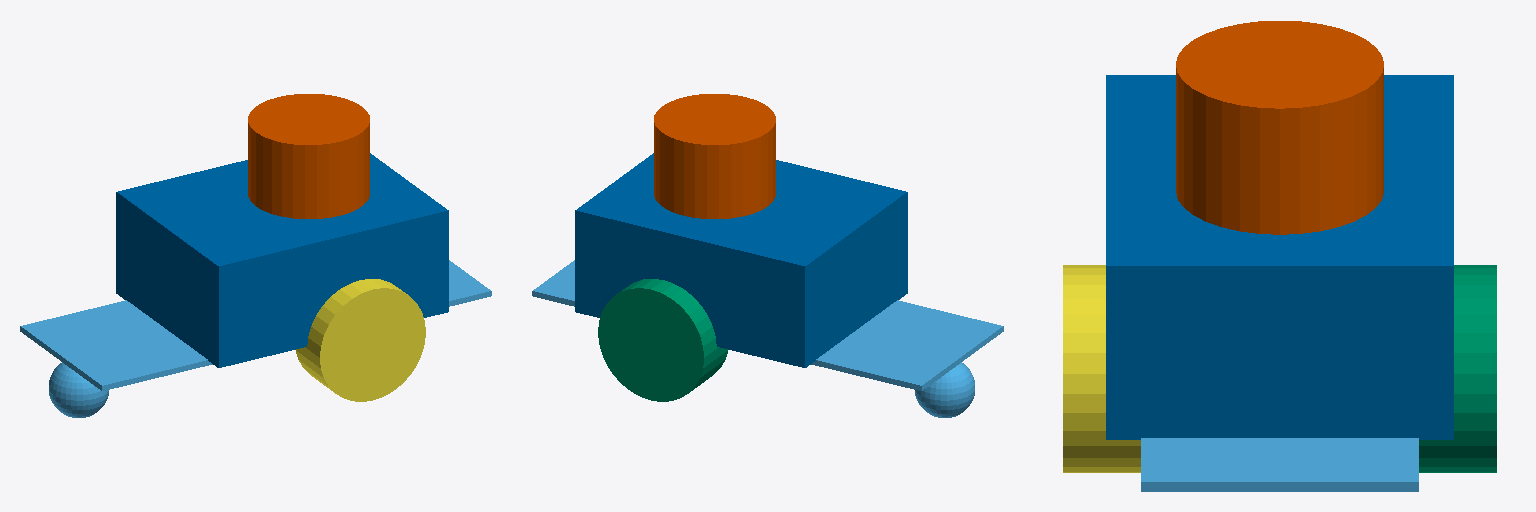
URDF robot description (gopigo3):
<?xml version="1.0" ?>
<!-- =================================================================================== -->
<!-- |    This document was autogenerated by xacro from gopigo3.xacro                  | -->
<!-- |    EDITING THIS FILE BY HAND IS NOT RECOMMENDED                                 | -->
<!-- =================================================================================== -->
<robot name="gopigo3" xmlns:xacro="http://www.ros.org/wiki/xacro">
  <!-- <link name='map'>
  </link> -->
  <link name="odom"/>
  <link name="base_link">
    <inertial>
      <mass value="15.0"/>
      <origin rpy=" 0 0 0" xyz="0 0 0.036"/>
      <inertia ixx="0.1" ixy="0" ixz="0" iyy="0.1" iyz="0" izz="0.1"/>
    </inertial>
    <collision name="collision">
      <origin rpy=" 0 0 0" xyz="0 0 0.036"/>
      <geometry>
        <box size=".22 .08 .003"/>
      </geometry>
    </collision>
    <visual name="base_link_visual">
      <origin rpy=" 0 0 0" xyz="0 0 0.036"/>
      <geometry>
        <box size=".22 .08 .003"/>
      </geometry>
    </visual>
    <collision name="caster_collision">
      <origin rpy=" 0 0 0" xyz="-0.1 0 0.018"/>
      <geometry>
        <sphere radius="0.015"/>
      </geometry>
      <surface>
        <friction>
          <ode>
            <mu>0</mu>
            <mu2>0</mu2>
            <slip1>1.0</slip1>
            <slip2>1.0</slip2>
          </ode>
        </friction>
      </surface>
    </collision>
    <visual name="caster_visual">
      <origin rpy=" 0 0 0" xyz="-0.1 0 0.018"/>
      <geometry>
        <sphere radius="0.015"/>
      </geometry>
    </visual>
  </link>
  <link name="left_wheel">
    <!--origin xyz="0.1 0.13 0.1" rpy="0 1.5707 1.5707"/-->
    <collision name="collision">
      <origin rpy="0 1.5707 1.5707" xyz="0 0 0"/>
      <geometry>
        <cylinder length="0.025" radius="0.03"/>
      </geometry>
    </collision>
    <visual name="left_wheel_visual">
      <origin rpy="0 1.5707 1.5707" xyz="0 0 0"/>
      <geometry>
        <cylinder length="0.025" radius="0.03"/>
      </geometry>
    </visual>
    <inertial>
      <origin rpy="0 1.5707 1.5707" xyz="0 0 0"/>
      <mass value="5"/>
      <inertia ixx=".1" ixy="0.0" ixz="0.0" iyy=".1" iyz="0.0" izz=".1"/>
    </inertial>
  </link>
  <link name="right_wheel">
    <!--origin xyz="0.1 -0.13 0.1" rpy="0 1.5707 1.5707"/-->
    <collision name="collision">
      <origin rpy="0 1.5707 1.5707" xyz="0 0 0"/>
      <geometry>
        <cylinder length="0.025" radius="0.03"/>
      </geometry>
    </collision>
    <visual name="right_wheel_visual">
      <origin rpy="0 1.5707 1.5707" xyz="0 0 0"/>
      <geometry>
        <cylinder length="0.025" radius="0.03"/>
      </geometry>
    </visual>
    <inertial>
      <origin rpy="0 1.5707 1.5707" xyz="0 0 0"/>
      <mass value="5"/>
      <inertia ixx=".1" ixy="0.0" ixz="0.0" iyy=".1" iyz="0.0" izz=".1"/>
    </inertial>
  </link>
  <link name="gopigo3_body">
    <visual>
      <geometry>
        <box size=".13 .1 .055"/>
      </geometry>
      <origin rpy=" 0 0 0" xyz="0 0 0"/>
    </visual>
    <collision name="collision">
      <origin rpy="0 0 0" xyz="0 0 0"/>
      <geometry>
        <box size=".13 .1 .055"/>
      </geometry>
    </collision>
    <inertial>
      <origin rpy="0 0 0" xyz="0 0 0"/>
      <mass value="5"/>
      <inertia ixx=".1" ixy="0.0" ixz="0.0" iyy=".1" iyz="0.0" izz=".1"/>
    </inertial>
  </link>
  <link name="lidar">
    <visual>
      <geometry>
        <cylinder length="0.04" radius="0.03"/>
      </geometry>
      <origin rpy=" 0 0 0" xyz="0 0 0"/>
    </visual>
    <collision name="collision">
      <origin rpy=" 0 0 0" xyz="0 0 0"/>
      <geometry>
        <cylinder length="0.04" radius="0.03"/>
      </geometry>
    </collision>
    <inertial>
      <origin rpy=" 0 0 0" xyz="0 0 0"/>
      <mass value="5"/>
      <inertia ixx=".1" ixy="0.0" ixz="0.0" iyy=".1" iyz="0.0" izz=".1"/>
    </inertial>
  </link>
  <!-- Joints -->
  <!-- <joint type="floating" name="map_to_odom">
    <parent link="map"/>
    <child link="odom"/>
    <origin xyz="0 0 0" rpy="0 0 0"/>
  </joint> -->
  <joint name="odom_to_base" type="floating">
    <parent link="odom"/>
    <child link="base_link"/>
    <origin rpy="0 0 0" xyz="0 0 -0.036"/>
  </joint>
  <joint name="left_wheel_hinge" type="continuous">
    <origin rpy="0 0 0" xyz="0.03 0.05 0.036"/>
    <!--origin xyz="0.1 0.13 0" rpy="0 1.5707 1.5707"/-->
    <child link="left_wheel"/>
    <parent link="base_link"/>
    <axis rpy="0 0 0" xyz="0 1 0"/>
    <limit effort="10000" velocity="1000"/>
    <joint_properties damping="1.0" friction="1.0"/>
  </joint>
  <joint name="right_wheel_hinge" type="continuous">
    <origin rpy="0 0 0" xyz="0.03 -0.05 0.036"/>
    <!--origin xyz="0.1 -0.13 0" rpy="0 1.5707 1.5707"/-->
    <child link="right_wheel"/>
    <parent link="base_link"/>
    <axis rpy="0 0 0" xyz="0 1 0"/>
    <limit effort="10000" velocity="1000"/>
    <joint_properties damping="1.0" friction="1.0"/>
  </joint>
  <joint name="base_to_body" type="fixed">
    <origin rpy=" 0 0 0" xyz="0.015 0 0.0645"/>
    <child link="gopigo3_body"/>
    <parent link="base_link"/>
  </joint>
  <joint name="base_to_lidar" type="fixed">
    <origin rpy=" 0 0 0" xyz="0.03 0 0.1126"/>
    <parent link="base_link"/>
    <child link="lidar"/>
  </joint>
</robot>

--- What the picture shows (computed from the rendered views, not written in the file) ---
Views: 3 orthographic renders of the robot side by side, from view 1: azimuth 30°, elevation 25°; view 2: azimuth 150°, elevation 25°; view 3: azimuth 270°, elevation 25°.
Model gopigo3 with 6 links and 5 joints (2 continuous, 2 fixed, 1 floating), rooted at odom, posed every joint at zero.
Links seen in each view (by area): view 1: gopigo3_body, lidar, base_link, right_wheel; view 2: gopigo3_body, lidar, base_link, left_wheel; view 3: gopigo3_body, lidar, base_link, left_wheel, right_wheel.
Link boxes in pixels (bbox=[...]): gopigo3_body: bbox=[116, 153, 448, 367]; lidar: bbox=[248, 94, 369, 218]; base_link: bbox=[20, 260, 491, 417]; right_wheel: bbox=[296, 279, 425, 401]; gopigo3_body: bbox=[575, 153, 907, 367]; lidar: bbox=[654, 94, 775, 218]; base_link: bbox=[532, 260, 1003, 417]; left_wheel: bbox=[598, 279, 727, 401]; gopigo3_body: bbox=[1106, 75, 1453, 439]; lidar: bbox=[1176, 21, 1383, 234]; base_link: bbox=[1141, 438, 1418, 491]; left_wheel: bbox=[1419, 265, 1496, 472]; right_wheel: bbox=[1063, 265, 1140, 472].
Bounding box of the posed robot: 0.225 × 0.125 × 0.1296 m (x, y, z).
Geometry: primitives only (box / cylinder / sphere), no mesh files.